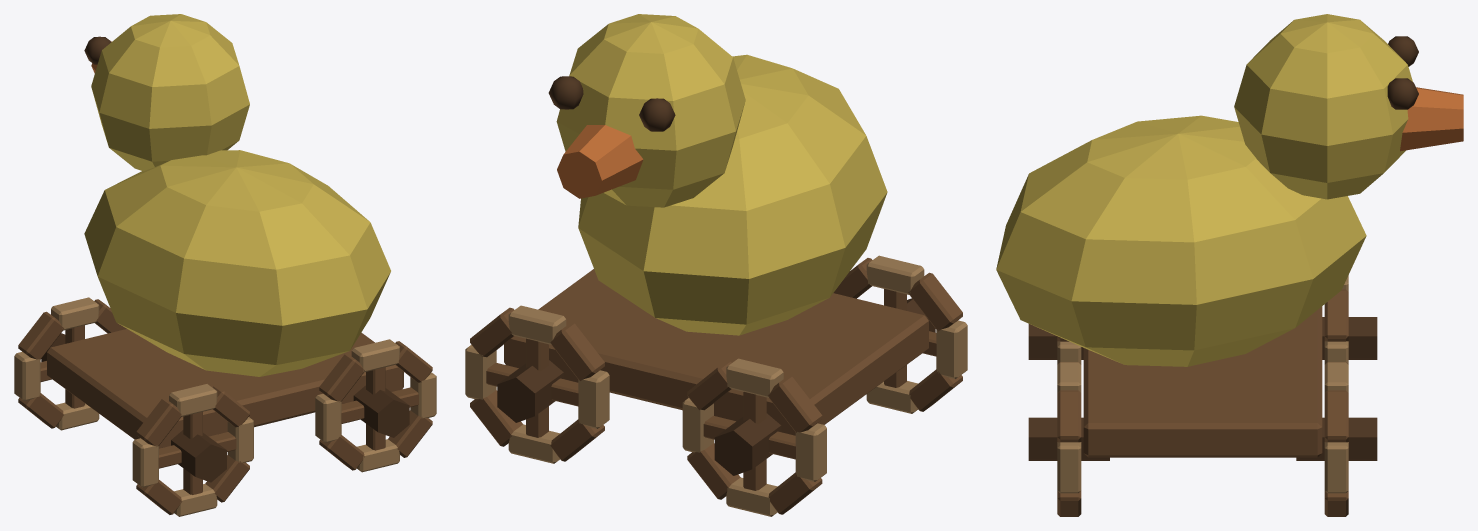
File: decoy_duck.fbx
3 views of the same model, side by side, from view 1: azimuth 30°, elevation 25°; view 2: azimuth 150°, elevation 25°; view 3: azimuth 270°, elevation 25° (orthographic). The views are drawn at different scales.
Visible parts, largest first — view 1: Prop; view 2: Prop; view 3: Prop.
Boxes of the visible parts, <box> form: Prop: <box>14,14,436,516</box>; Prop: <box>465,14,967,516</box>; Prop: <box>996,14,1463,516</box>.
Bounding box in the file's own units: 0.81 × 0.9791 × 1.
